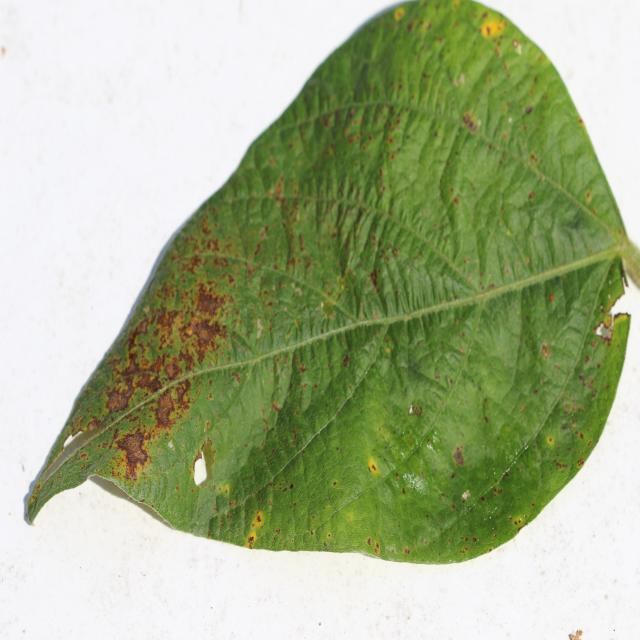Bacterial_Blight: (116, 429, 154, 482), (374, 419, 404, 456), (594, 308, 625, 342), (194, 290, 225, 317), (155, 390, 176, 426), (105, 386, 131, 414), (193, 320, 219, 345), (480, 18, 506, 38), (562, 398, 586, 416), (122, 355, 141, 377), (320, 297, 337, 321), (164, 359, 181, 381), (462, 110, 479, 131), (29, 482, 42, 507), (272, 176, 285, 200), (369, 269, 381, 293), (452, 445, 465, 466), (86, 416, 102, 432), (578, 373, 592, 388), (408, 403, 422, 417), (453, 72, 466, 87), (255, 318, 264, 339), (368, 458, 379, 475), (568, 629, 584, 640), (553, 459, 568, 470), (292, 284, 303, 298), (231, 371, 241, 385), (461, 489, 471, 503), (394, 7, 404, 20), (541, 344, 549, 359), (493, 487, 503, 497), (78, 452, 88, 462), (271, 401, 280, 412), (530, 152, 538, 164), (222, 483, 230, 495), (343, 355, 350, 368), (585, 190, 592, 203), (546, 435, 555, 445), (577, 458, 585, 468), (299, 364, 307, 374), (374, 541, 380, 554), (525, 106, 533, 115), (346, 513, 353, 523), (229, 499, 237, 507), (584, 354, 591, 363), (387, 136, 394, 145), (205, 420, 211, 430), (462, 257, 469, 265), (453, 196, 459, 205), (548, 293, 554, 302), (578, 117, 584, 126), (367, 537, 372, 547), (248, 536, 254, 544), (404, 547, 410, 555), (529, 191, 535, 199), (385, 346, 391, 354), (422, 293, 428, 301), (450, 472, 456, 479), (423, 272, 429, 279), (420, 472, 425, 480), (268, 500, 273, 508), (441, 492, 446, 500), (256, 515, 261, 522), (451, 503, 456, 510), (481, 496, 486, 503), (484, 416, 489, 423), (390, 547, 395, 554), (175, 485, 179, 493), (289, 483, 294, 489), (276, 528, 281, 534), (402, 487, 406, 494), (464, 544, 468, 551), (327, 532, 331, 539), (405, 278, 409, 285), (488, 547, 493, 552), (473, 537, 477, 543), (333, 480, 337, 486), (518, 518, 522, 524), (395, 472, 399, 478), (426, 513, 430, 519), (310, 531, 314, 537), (493, 532, 497, 538), (323, 541, 327, 547), (514, 520, 518, 525), (509, 515, 512, 520)
Soybean: (26, 0, 640, 563)
